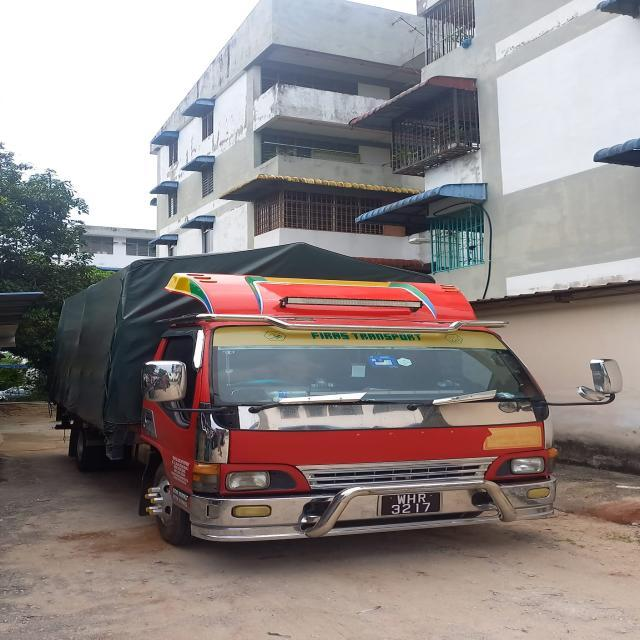truck: (54, 240, 558, 546)
